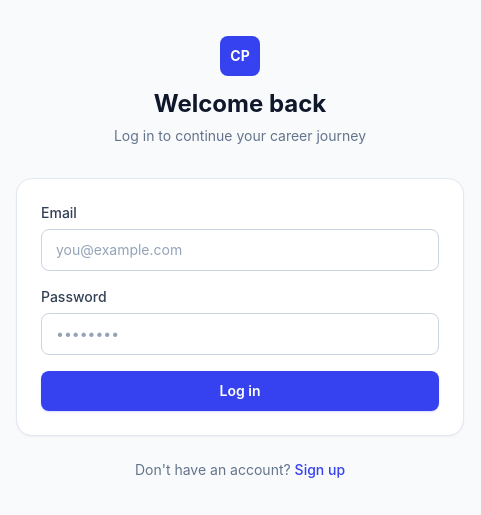
LoginPage › shows validation errors when submitted empty
Click the button "Log in": (240, 391) left=41, top=371, right=439, bottom=411
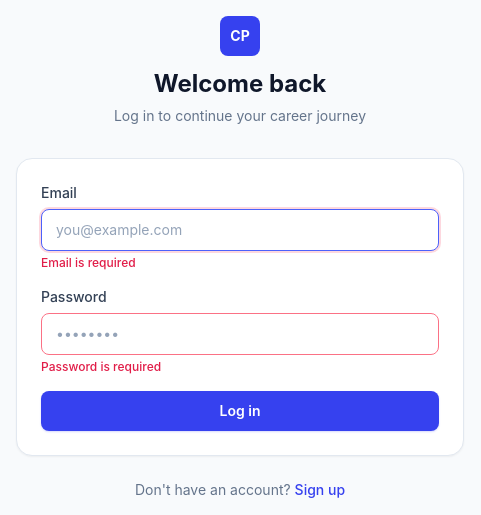
Expected: the text "Email is required" is shown, left=41, top=255, right=136, bottom=270
